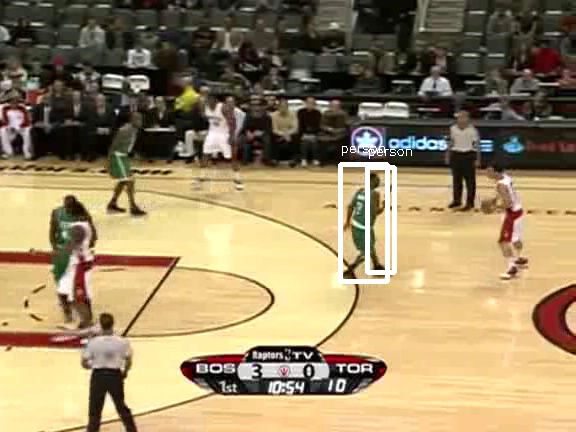person: (348, 182, 382, 263), (347, 182, 381, 263), (349, 182, 383, 263), (348, 181, 382, 262), (348, 183, 382, 264)
target_negative: (55, 5, 313, 327), (75, 157, 374, 283), (161, 345, 504, 425), (115, 46, 193, 387), (60, 352, 472, 396), (538, 312, 575, 409)
